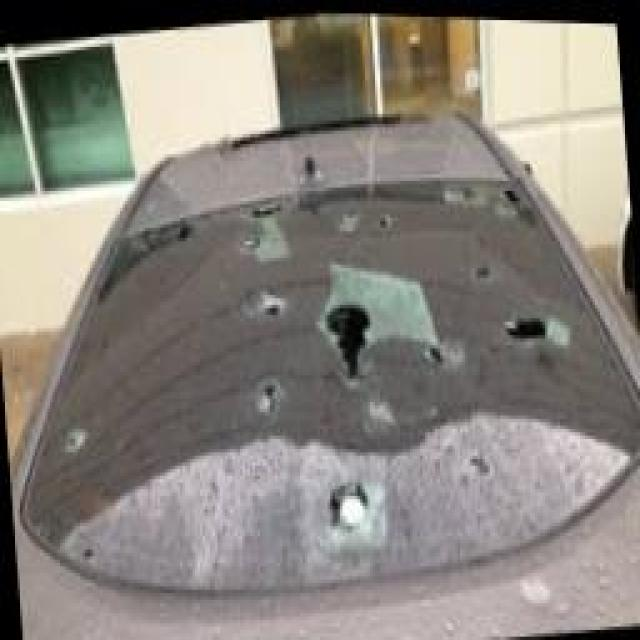Windshield: (14, 166, 640, 587)
